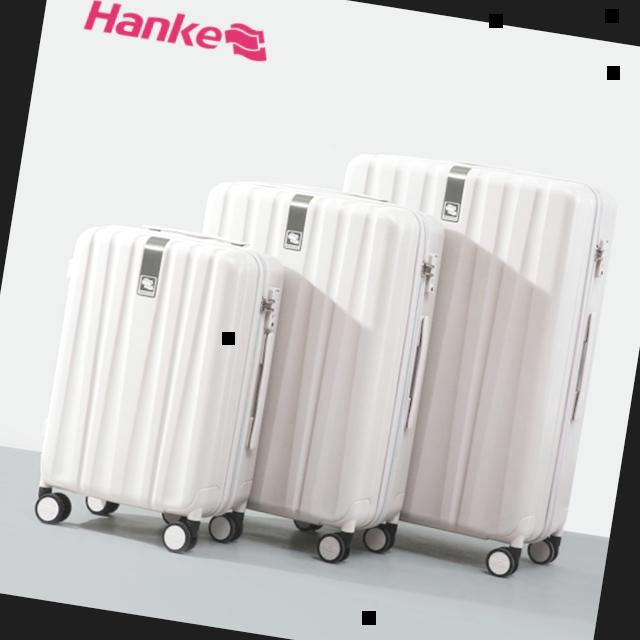luggage: (288, 141, 626, 553), (156, 165, 456, 544), (30, 207, 297, 536)
